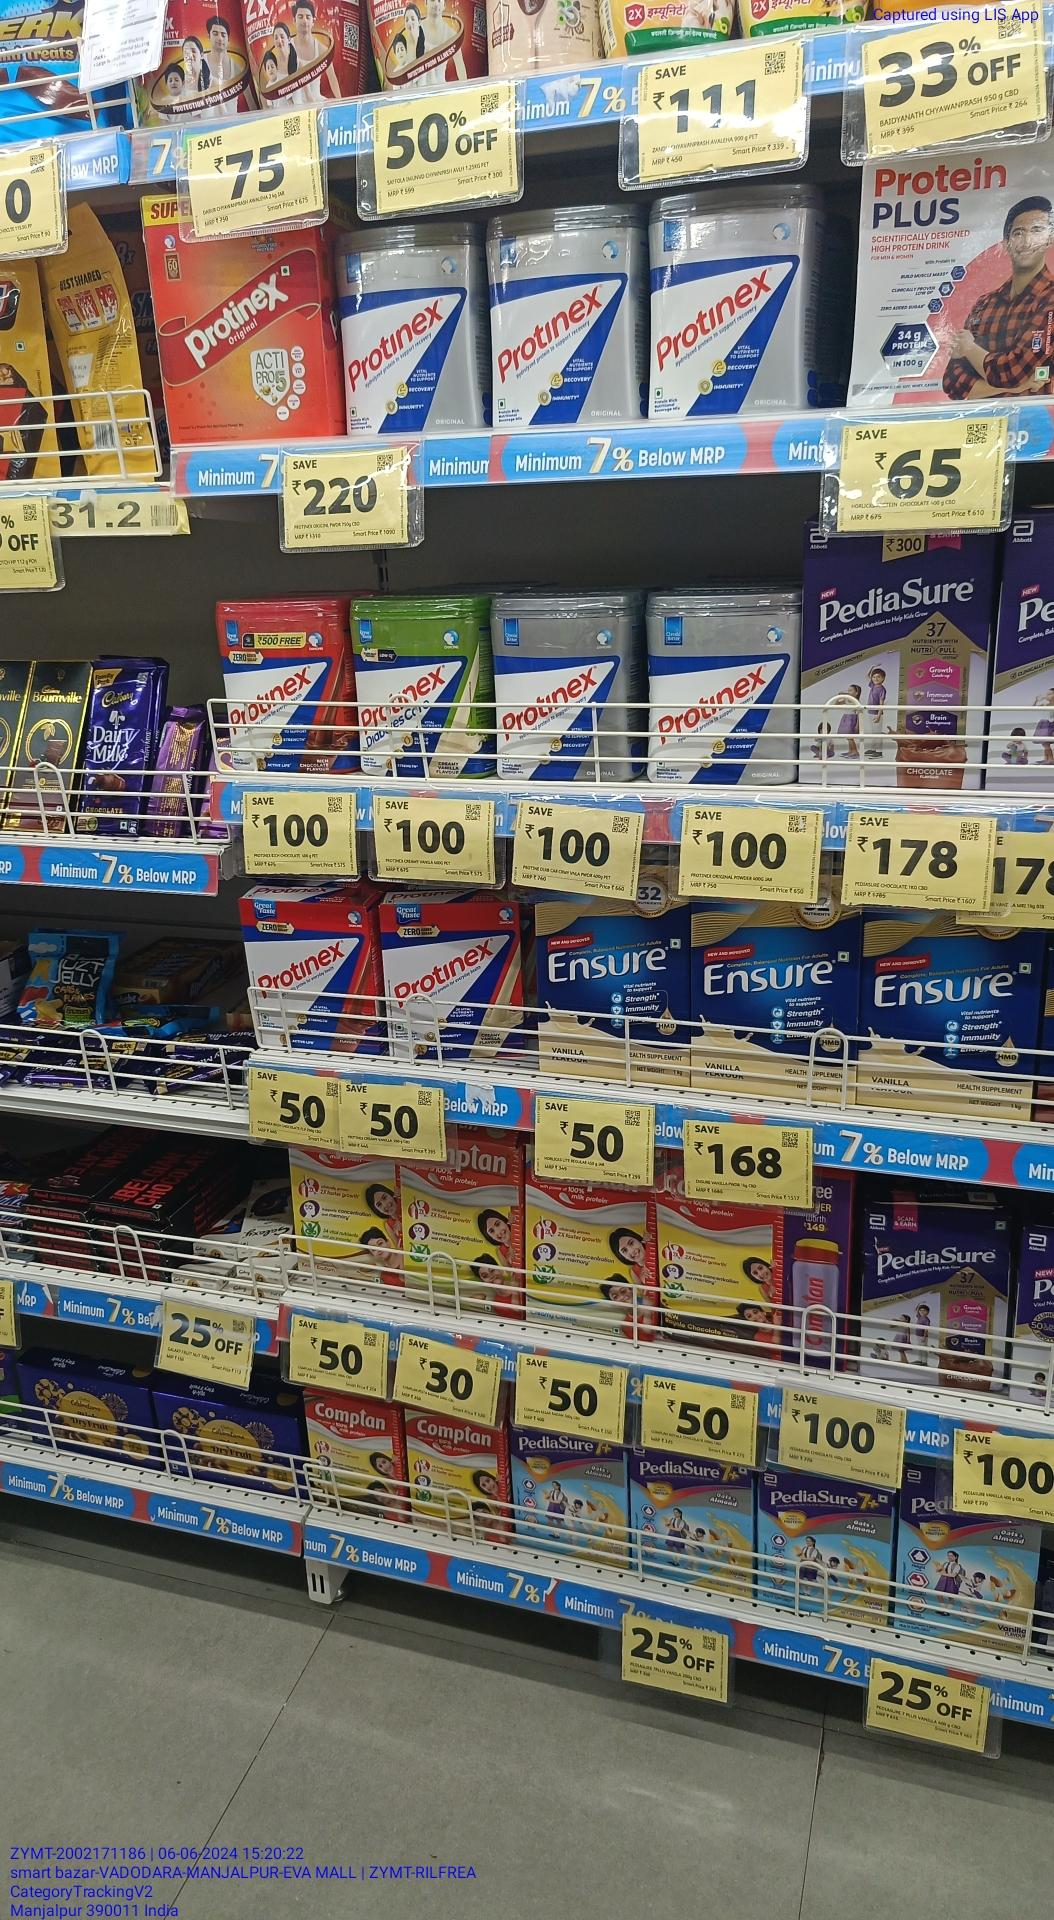PROTINEX_ORIGINAL_400_G_JAR: (646, 198, 813, 410), (491, 206, 640, 423), (335, 232, 485, 435), (649, 606, 798, 789), (493, 601, 633, 786)
